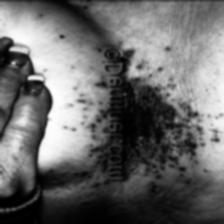Toxin: (124, 82, 202, 174)
